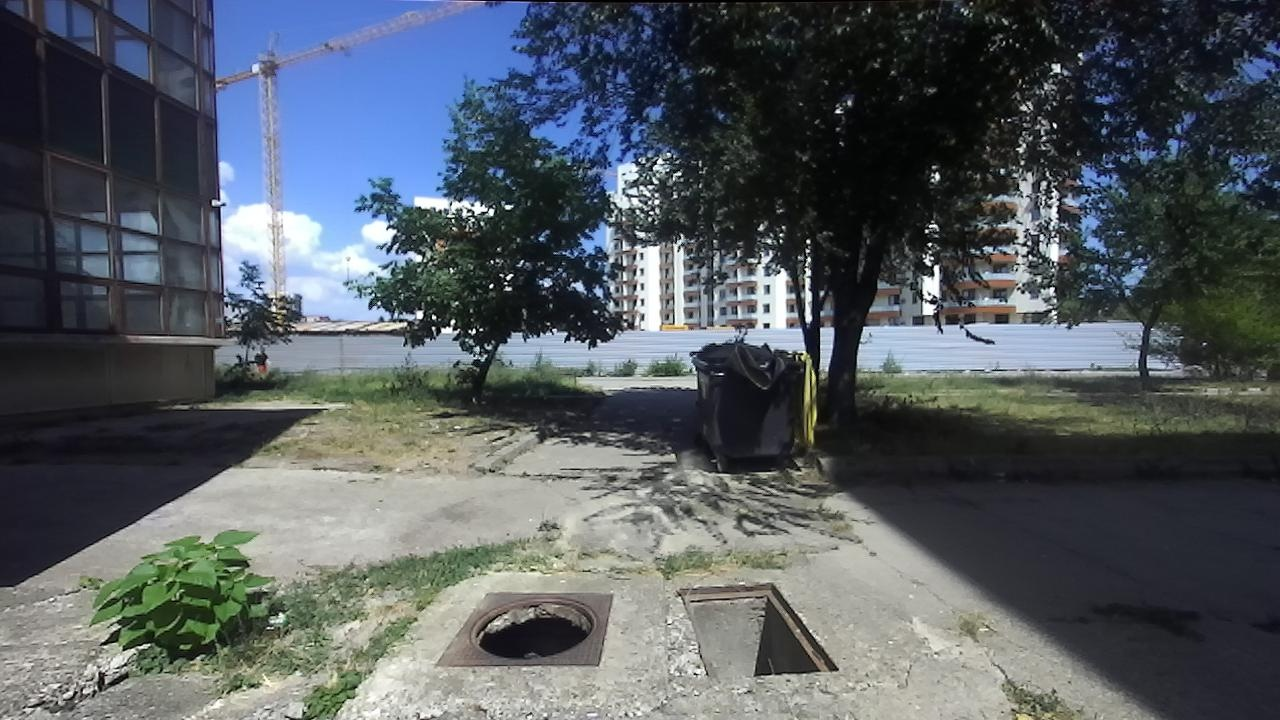drain: (673, 578, 840, 678), (464, 593, 597, 662)
